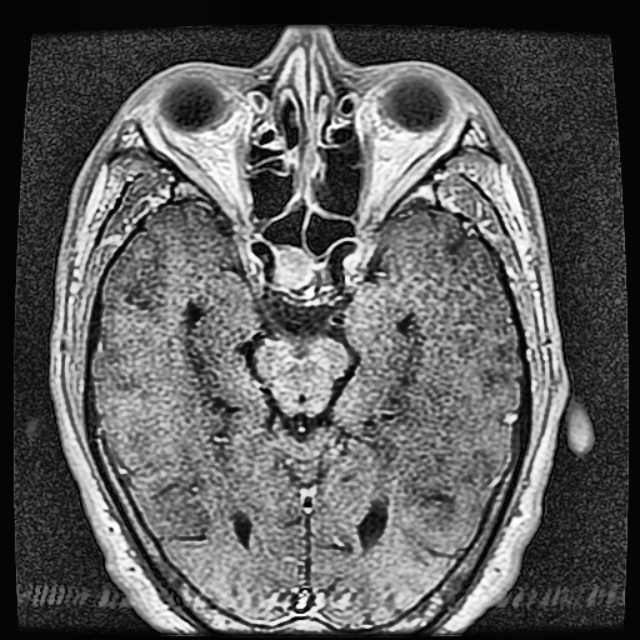Pituitary: (272, 242, 318, 288)
